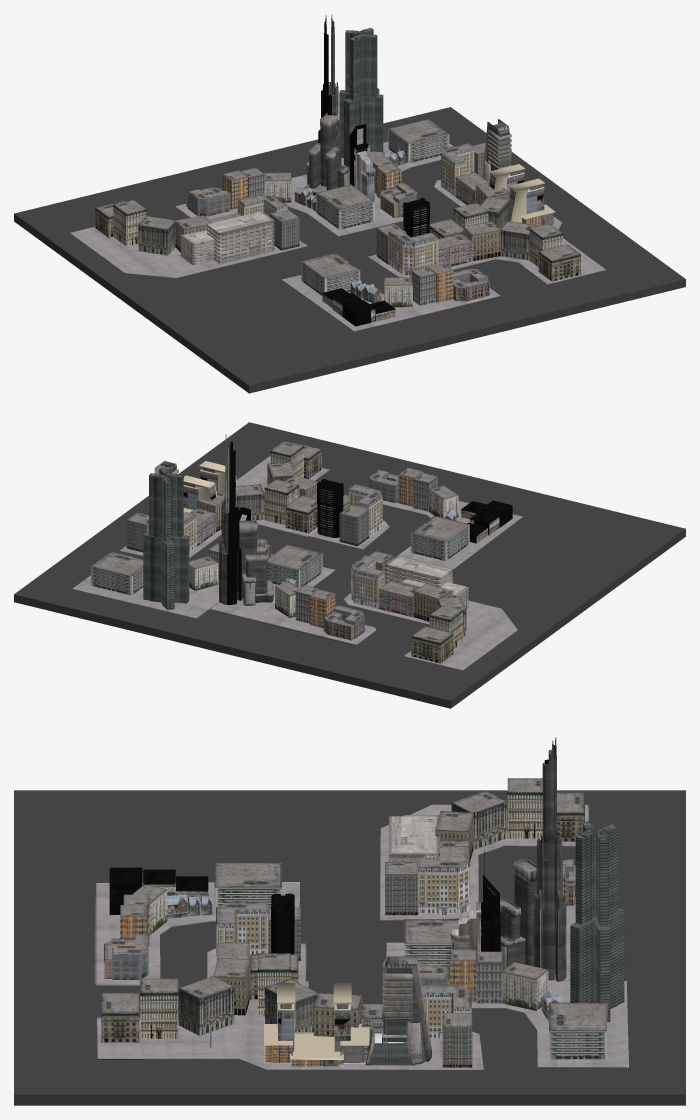
Rendered from city.obj.
3 views of the same model, one above another, from view 1: azimuth 30°, elevation 25°; view 2: azimuth 150°, elevation 25°; view 3: azimuth 270°, elevation 25° (orthographic). The views are drawn at different scales.
Bounding box in the file's own units: 2277 × 871 × 2124.
